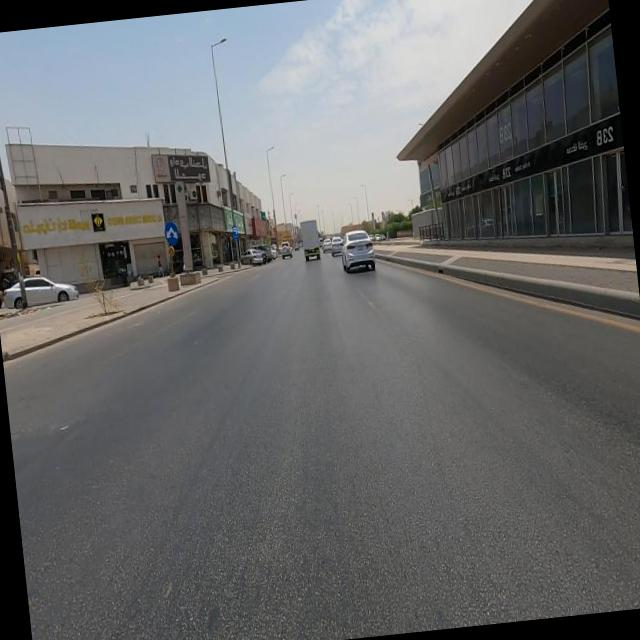debris: (152, 168, 250, 264)
